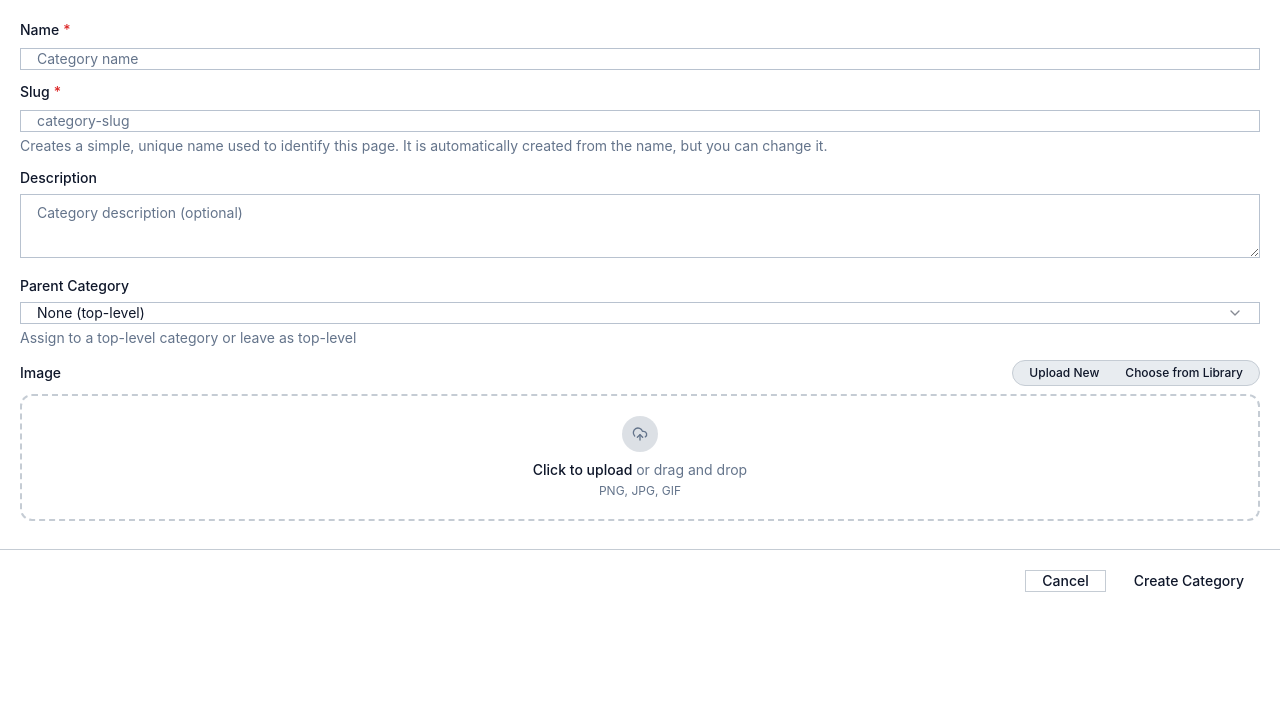
CategoryForm library pagination › does not show the spinner overlay during the true first load into library mode
The width and height of the screenshot is (1280, 720).
Click the button "Choose from Library" at (1184,373), box [1113,365,1255,381]
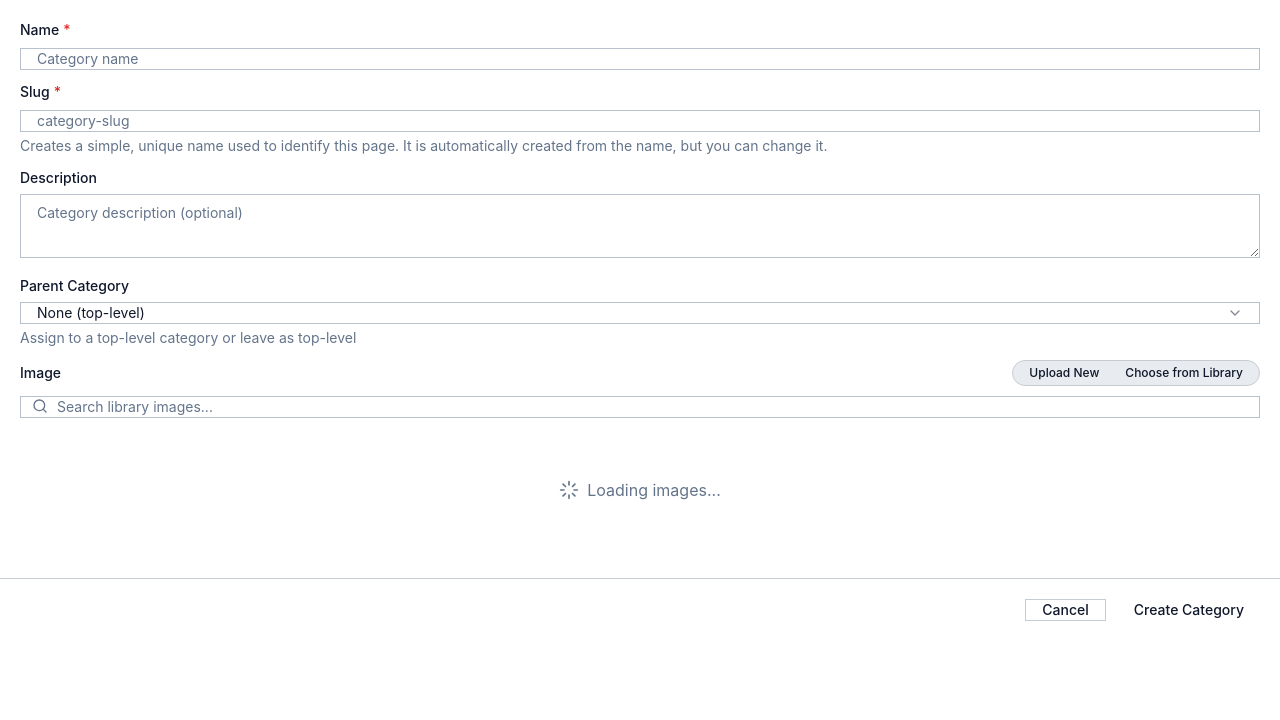
Result: the text "Loading images..." is shown at [559,480,721,500]
